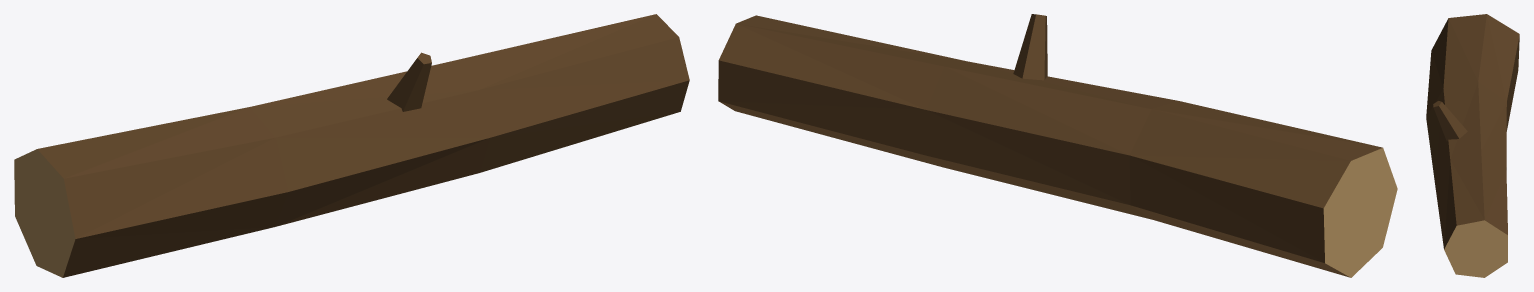
Rendered from HS_LP_Log_Half_01.fbx.
3 renders of one model, left to right at view 1: azimuth 30°, elevation 25°; view 2: azimuth 150°, elevation 25°; view 3: azimuth 270°, elevation 25°, orthographic. The views are drawn at different scales.
Visible parts, largest first — view 1: HS_LP_Log_Half_01; view 2: HS_LP_Log_Half_01; view 3: HS_LP_Log_Half_01.
Boxes of the visible parts, left/top/right/bottom form: HS_LP_Log_Half_01: left=14, top=14, right=689, bottom=277; HS_LP_Log_Half_01: left=718, top=14, right=1397, bottom=277; HS_LP_Log_Half_01: left=1426, top=14, right=1519, bottom=277.
Size of the model in its own units: 150 by 35.19 by 29.84.
